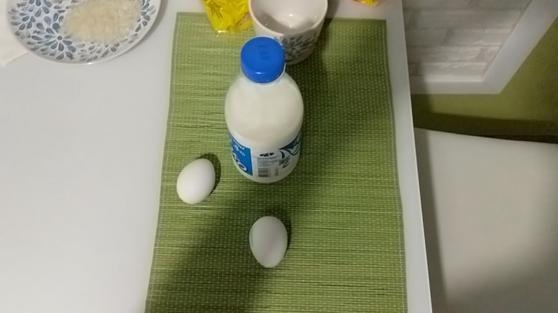egg: (243, 212, 292, 271), (174, 151, 220, 209)
milk: (217, 34, 312, 189)
rice: (59, 1, 150, 52)
